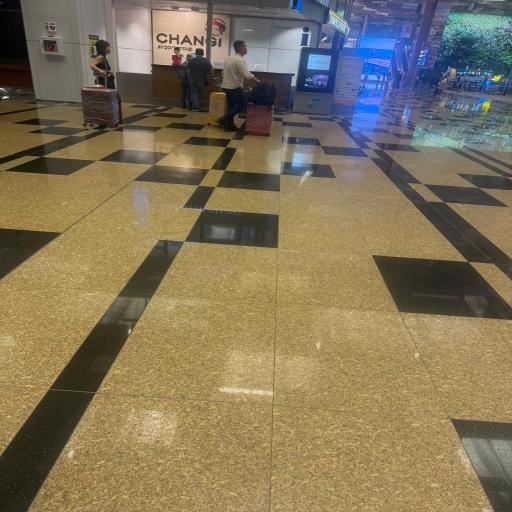person_with_luggage_right: (208, 40, 276, 136), (80, 40, 122, 128)
